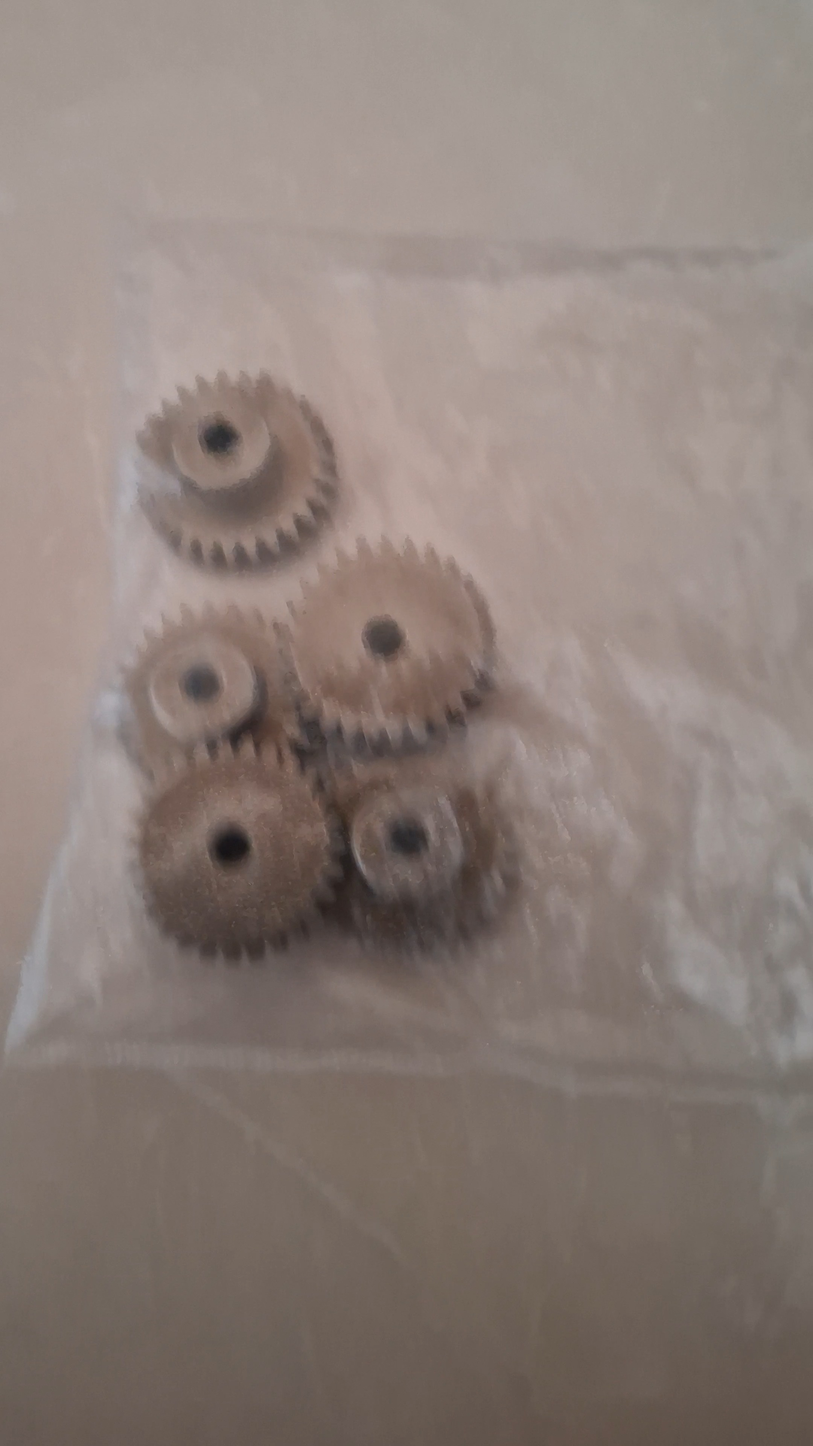spur gear: (137, 740, 341, 958), (283, 540, 494, 750), (139, 373, 336, 569), (333, 759, 518, 950), (122, 607, 295, 774)
